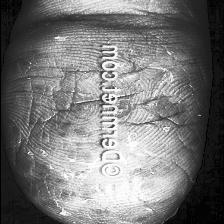Non-Cancerous Skin Condition: (26, 28, 92, 171), (130, 34, 196, 164), (68, 180, 154, 224)
